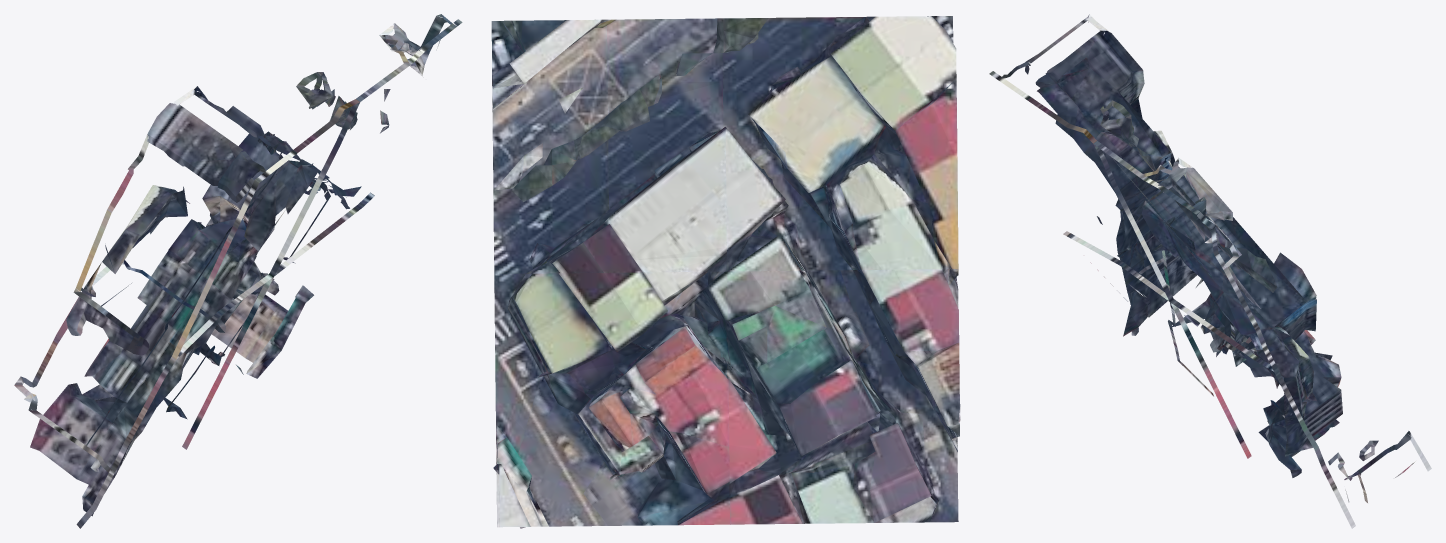
3 renders of one model, left to right at view 1: azimuth 30°, elevation 25°; view 2: azimuth 150°, elevation 25°; view 3: azimuth 270°, elevation 25°, orthographic. The views are drawn at different scales.
Bounding box in the file's own units: 82.5 × 77.58 × 78.03.
Materials: 1 (1 with a texture image).
